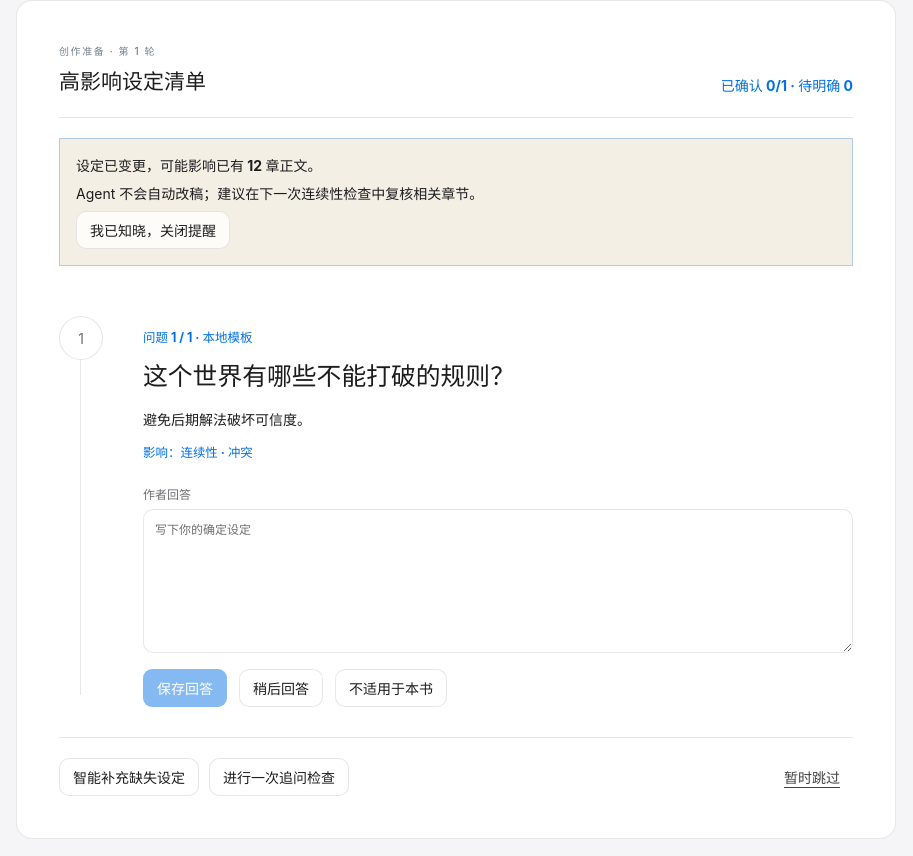
Test: shows a persistent manuscript impact notice until acknowledged
This screenshot has width=913, height=856.
expect the message "设定已变更，可能影响已有 12 章正文。 Agent 不会自动改稿；建议在下一次连续性检查中复核相关章节。 我已知晓，关闭提醒" is shown: met, box left=59, top=138, right=853, bottom=266
What coordinates should you click on to do the following:
click the button "我已知晓，关闭提醒"
I would click on:
 (153, 230)
Its box is left=76, top=211, right=230, bottom=249.
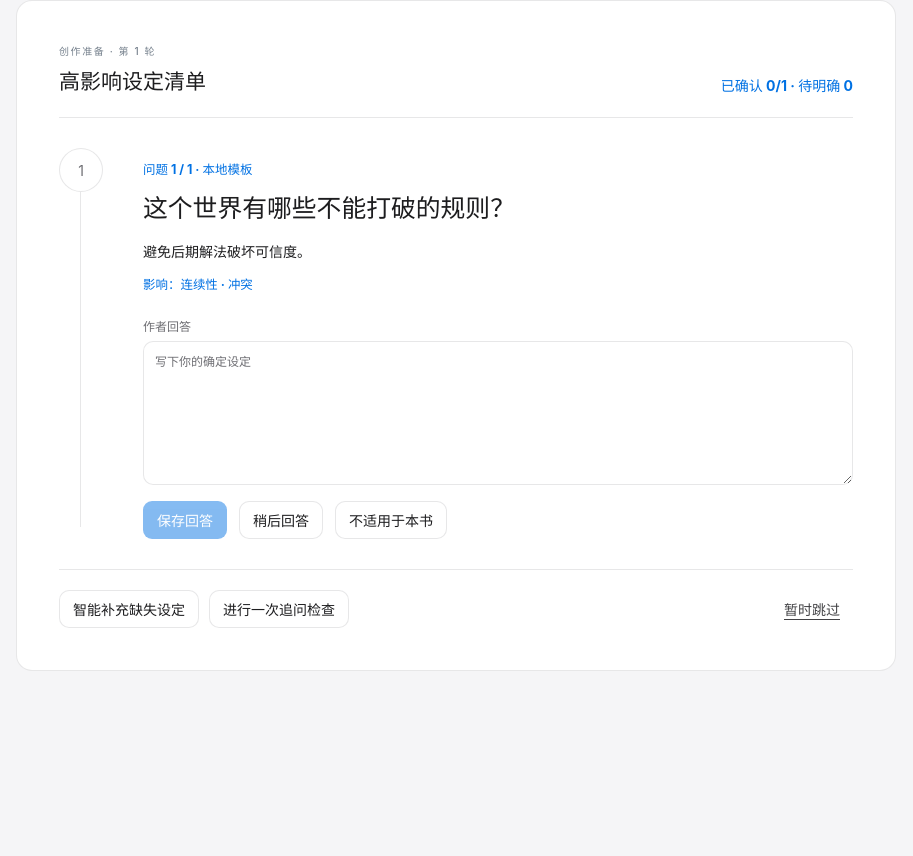
expect the text "12 章正文" is gone: met
